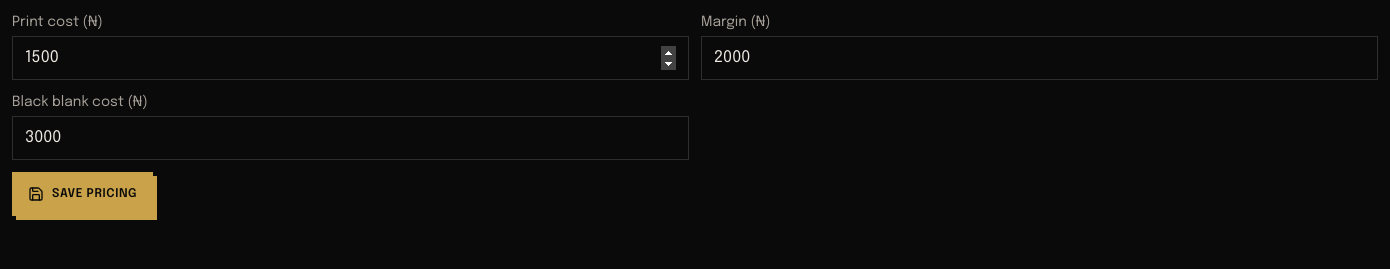
Test case: admin catalog screens › sends custom pricing in kobo
This screenshot has width=1390, height=269.
Replace the text in the number field labelled "Margin (₦)" with "2500" at point(1040, 58), box [701,36,1378,80]
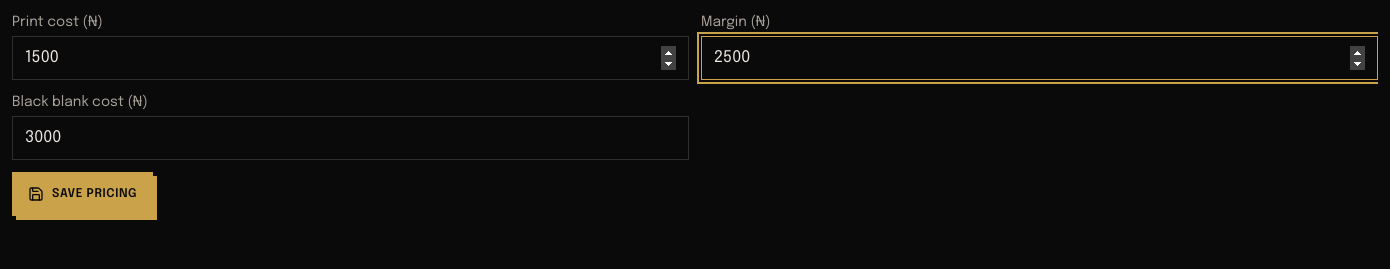
Click the button "Save pricing".
click(83, 194)  # box [12,172,153,216]
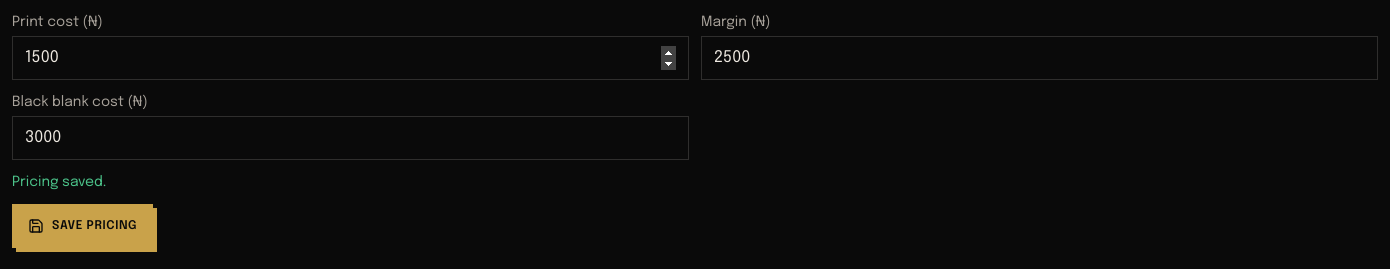
Result: the message shows "Pricing saved" at [12,175,106,189]
